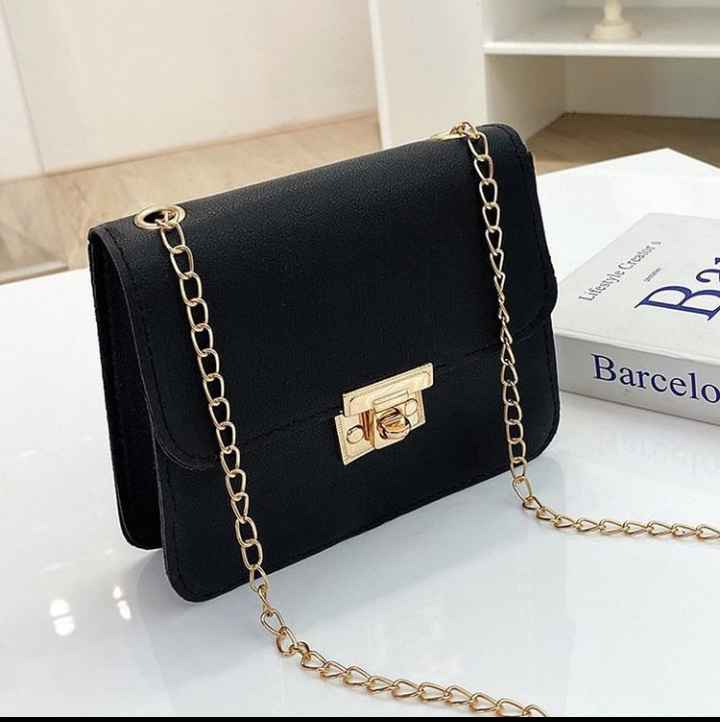cartera: (74, 116, 593, 611)
cuero: (240, 218, 427, 320)
